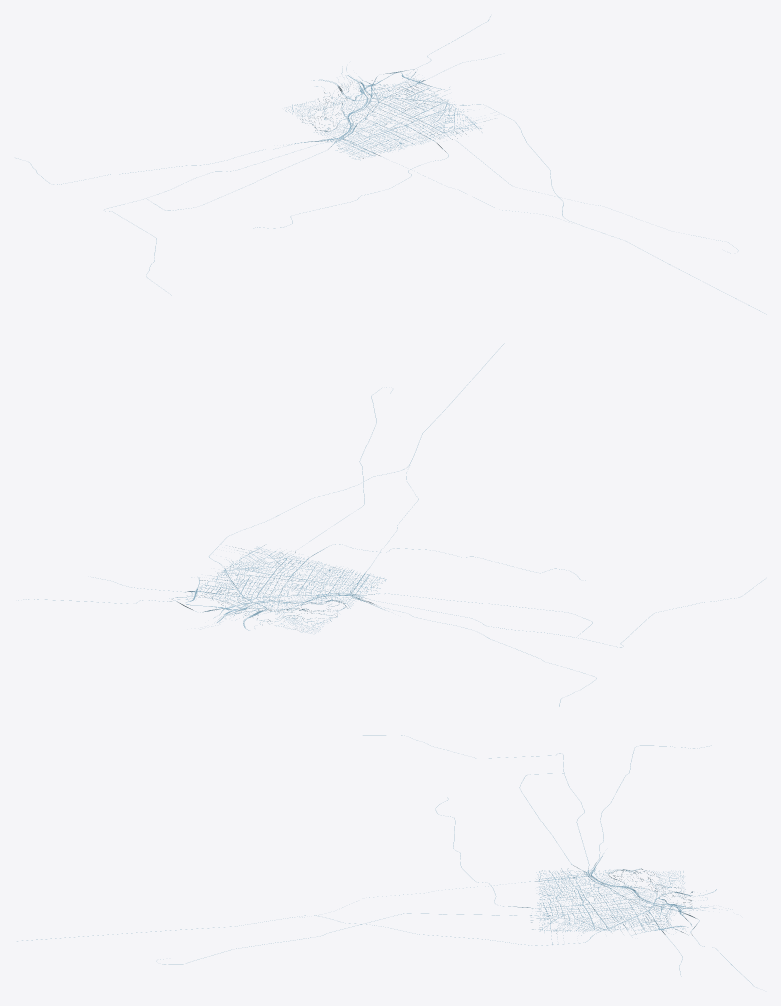
File: roads.glb
3 renders of one model, top to bottom at view 1: azimuth 30°, elevation 25°; view 2: azimuth 150°, elevation 25°; view 3: azimuth 270°, elevation 25°, orthographic. The views are drawn at different scales.
Parts seen in each view (by area): view 1: roads; view 2: roads; view 3: roads.
Part boxes in pixels (x1=…): roads: x1=16, y1=16, x2=766, y2=314; roads: x1=18, y1=343, x2=764, y2=706; roads: x1=17, y1=735, x2=756, y2=987.
Size of the model in its own units: 21058 by 356 by 26071.
